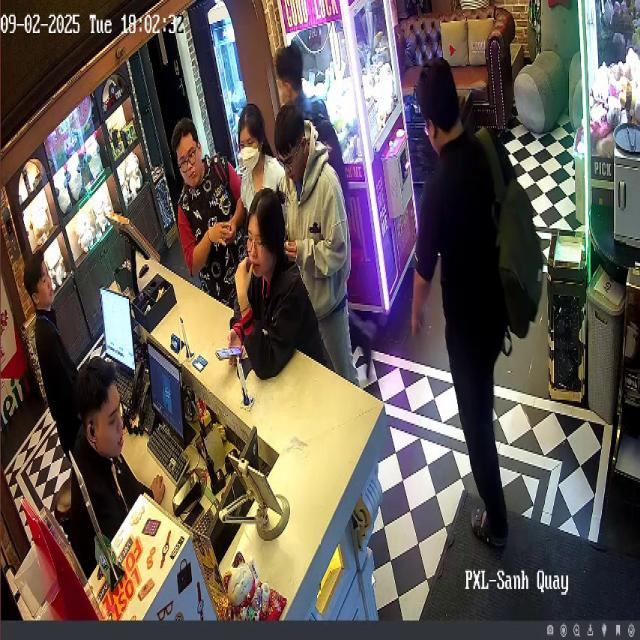khach: (402, 42, 546, 559), (267, 102, 383, 403), (229, 178, 338, 406), (164, 114, 261, 314), (265, 42, 358, 235), (220, 89, 289, 240)
nhan vien: (75, 347, 166, 579), (22, 239, 82, 463)
